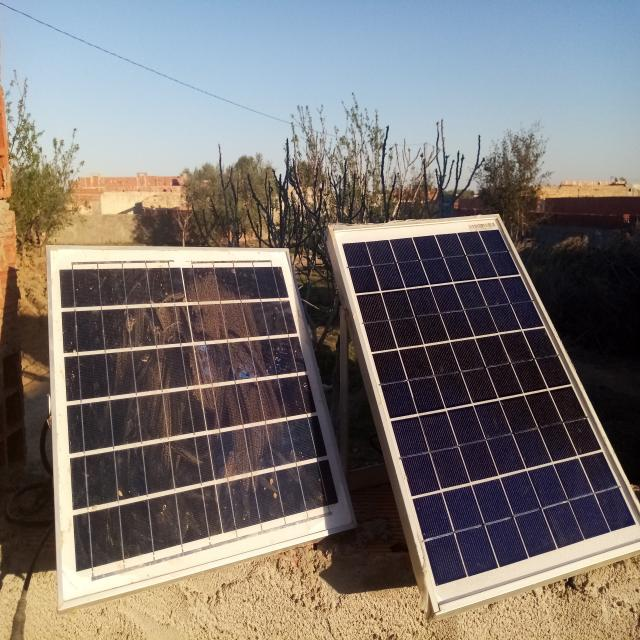faulty: (48, 250, 357, 605)
no faulty: (331, 215, 640, 613)
